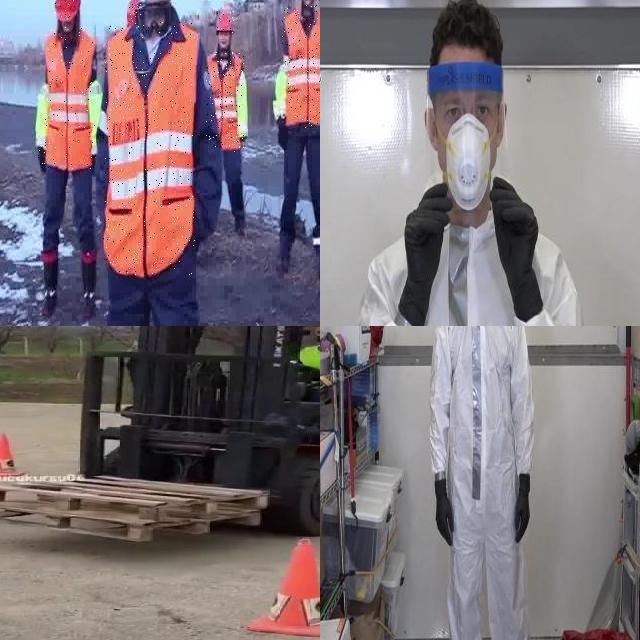Glove: (397, 179, 453, 326), (488, 172, 543, 318), (434, 478, 455, 548), (514, 472, 531, 542)
HELMET: (52, 0, 80, 19), (216, 8, 234, 35), (127, 0, 141, 20)
MASK: (446, 113, 490, 211)
VEST: (103, 19, 195, 274), (44, 27, 95, 172), (282, 5, 320, 130), (206, 52, 244, 152)
